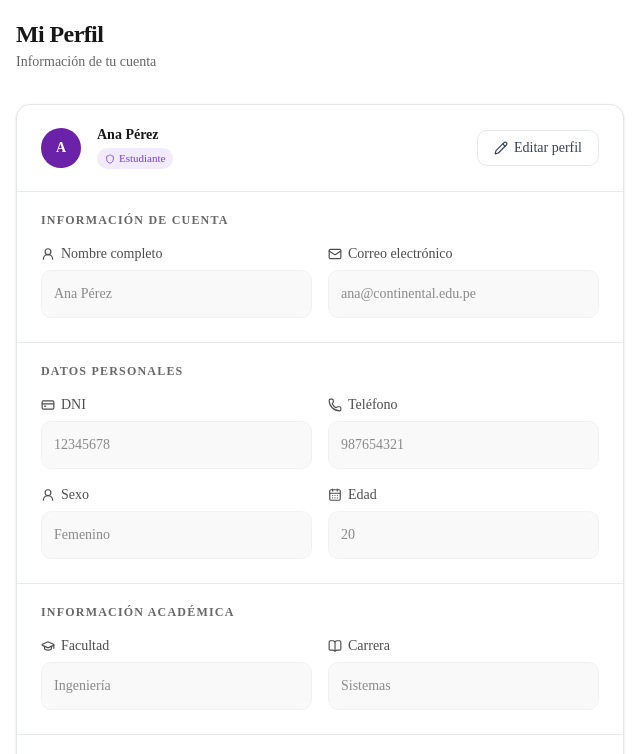
Test: ProfilePage › permite entrar en modo edición
Check: the field showing "12345678" is shown, box [41,420,312,468]
Click the button "Editar perfil" at (538,148), box [477,130,599,166]
(page scrolled)
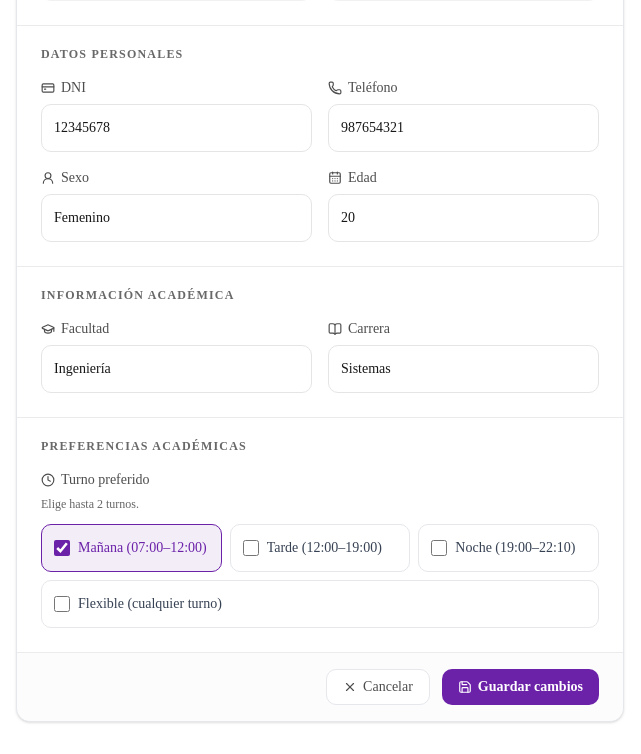
Check: the button "Guardar cambios" is shown, box [442,668,599,704]
Check: the button "Cancelar" is shown, box [326,668,430,704]
